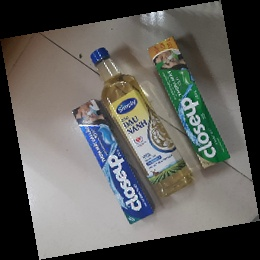CloseUp Tuyet: (69, 99, 156, 225)
CloseUp Xanh: (145, 35, 231, 170)
Simply: (90, 46, 194, 199)
